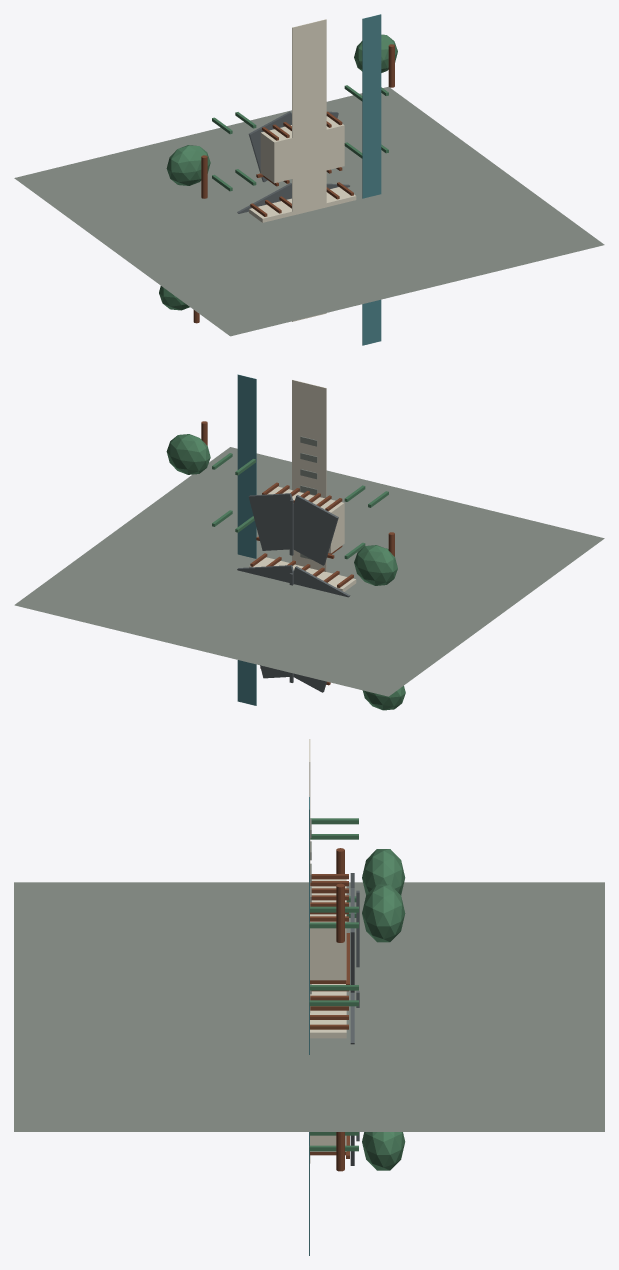
Rendered from yuelu_academy_preview.glb.
3 views of the same model, one above another, from view 1: azimuth 30°, elevation 25°; view 2: azimuth 150°, elevation 25°; view 3: azimuth 270°, elevation 25° (orthographic). The views are drawn at different scales.
Parts seen in each view (by area): view 1: academy_ground, academy_path, academy_stream, imperial_library_walls, ancient_tree_crown_-12_6, lecture_hall_walls, imperial_library_roof_left, ancient_tree_crown_12_14, lecture_hall_roof_left; view 2: academy_ground, academy_stream, academy_path, imperial_library_roof_left, imperial_library_roof_right, ancient_tree_crown_-12_6, ancient_tree_crown_12_14, imperial_library_walls, lecture_hall_roof_left, ancient_tree_crown_-13_-9, lecture_hall_walls, lecture_hall_roof_right; view 3: academy_ground, imperial_library_walls, ancient_tree_crown_12_14, ancient_tree_crown_-12_6, ancient_tree_crown_13_-6, lecture_hall_walls.
Boxes of the visible parts, left/top/right/bottom form: academy_ground: left=14, top=86, right=604, bottom=336; academy_path: left=292, top=19, right=326, bottom=321; academy_stream: left=362, top=14, right=381, bottom=345; imperial_library_walls: left=260, top=116, right=344, bottom=183; ancient_tree_crown_-12_6: left=166, top=145, right=210, bottom=185; lecture_hall_walls: left=249, top=187, right=356, bottom=222; imperial_library_roof_left: left=248, top=111, right=291, bottom=182; ancient_tree_crown_12_14: left=354, top=34, right=397, bottom=72; lecture_hall_roof_left: left=237, top=183, right=291, bottom=213; academy_ground: left=14, top=447, right=604, bottom=696; academy_stream: left=237, top=374, right=256, bottom=705; academy_path: left=292, top=380, right=326, bottom=571; imperial_library_roof_left: left=282, top=495, right=338, bottom=565; imperial_library_roof_right: left=248, top=493, right=303, bottom=550; ancient_tree_crown_-12_6: left=354, top=545, right=397, bottom=585; ancient_tree_crown_12_14: left=166, top=434, right=210, bottom=474; imperial_library_walls: left=267, top=486, right=344, bottom=553; lecture_hall_roof_left: left=293, top=566, right=350, bottom=597; ancient_tree_crown_-13_-9: left=362, top=686, right=405, bottom=710; lecture_hall_walls: left=249, top=557, right=356, bottom=591; lecture_hall_roof_right: left=237, top=565, right=293, bottom=582; academy_ground: left=14, top=882, right=604, bottom=1131; imperial_library_walls: left=310, top=879, right=346, bottom=980; ancient_tree_crown_12_14: left=362, top=884, right=405, bottom=942; ancient_tree_crown_-12_6: left=362, top=849, right=405, bottom=895; ancient_tree_crown_13_-6: left=362, top=1132, right=405, bottom=1170; lecture_hall_walls: left=310, top=984, right=346, bottom=1038.
Size of the model in its own units: 48 by 41 by 48.
